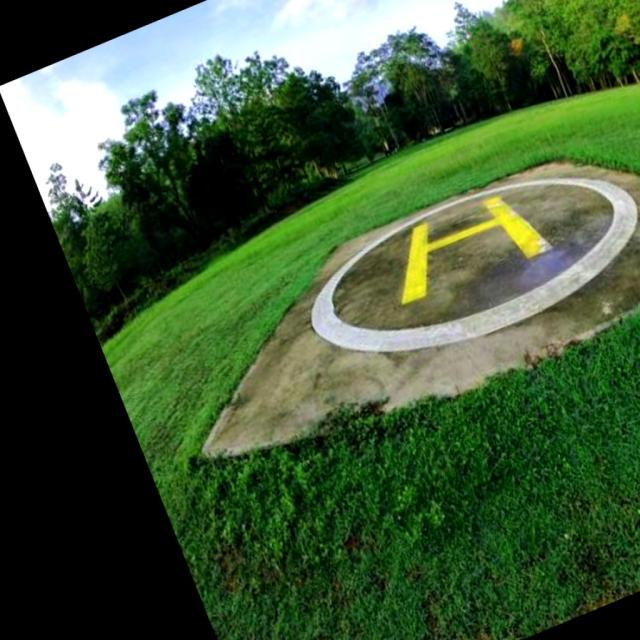helipad: (306, 170, 638, 355)
